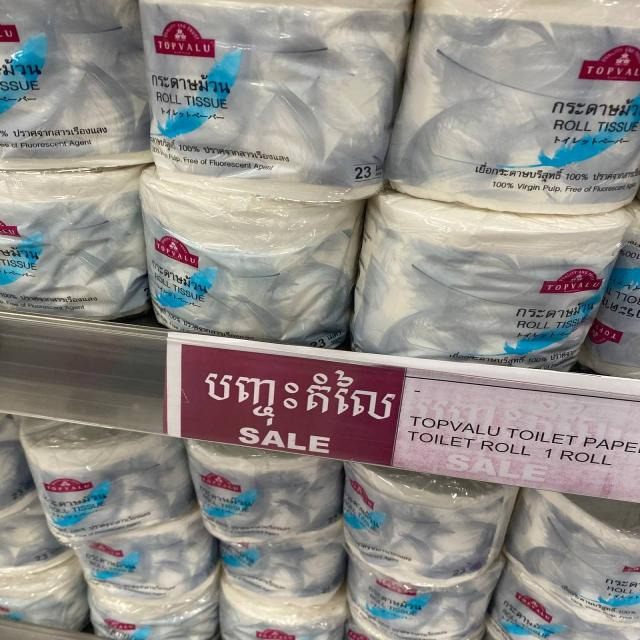Yolov11_80vkh: (200, 355, 403, 438)
